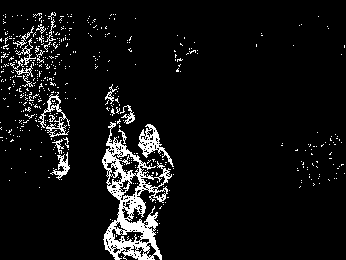person: (134, 126, 175, 208), (40, 93, 73, 178), (118, 200, 160, 260), (105, 129, 131, 198)
